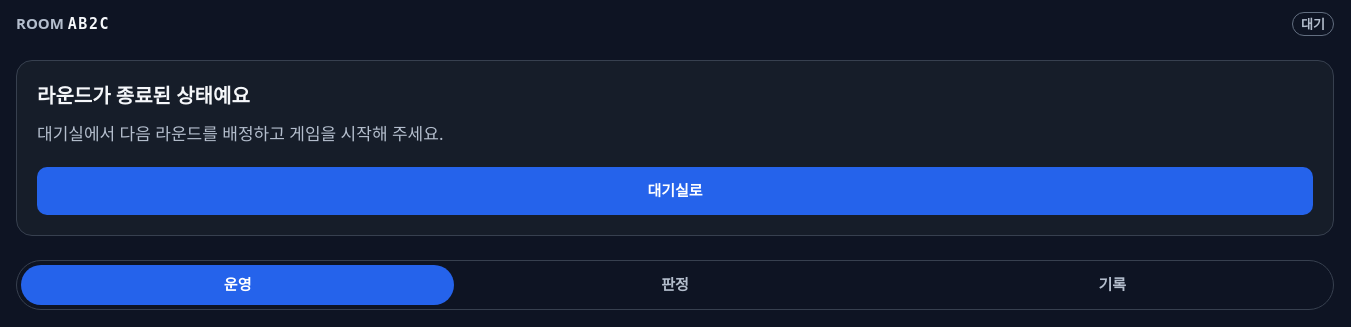
Test: RoundOpsPage › 라운드 종료 후 대기 안내 › 판정 탭은 미판정 건이 없으면 지난 기록 안내로 대체한다
Step 1. Click the radio button labelled "판정" → (675, 285), box left=458, top=265, right=892, bottom=305
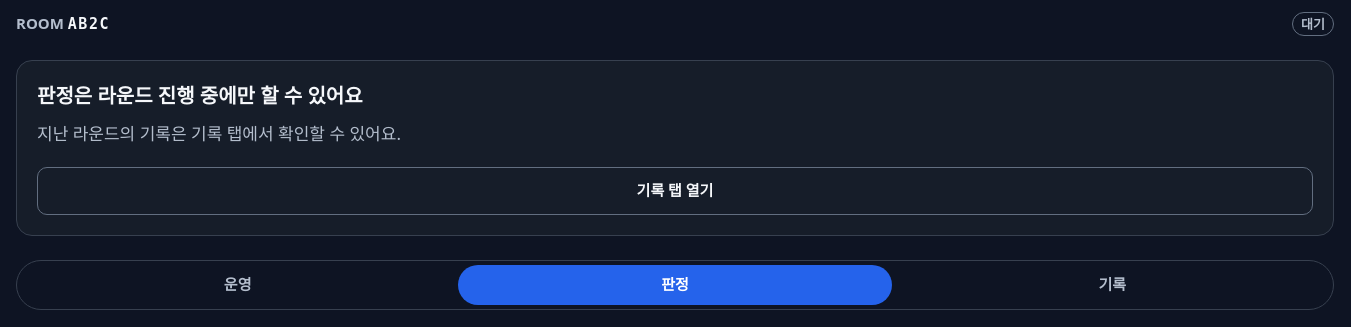
Check: the text "지난 라운드의 기록은 기록 탭에서 확인할 수 있어요." is shown, box left=37, top=122, right=401, bottom=145
